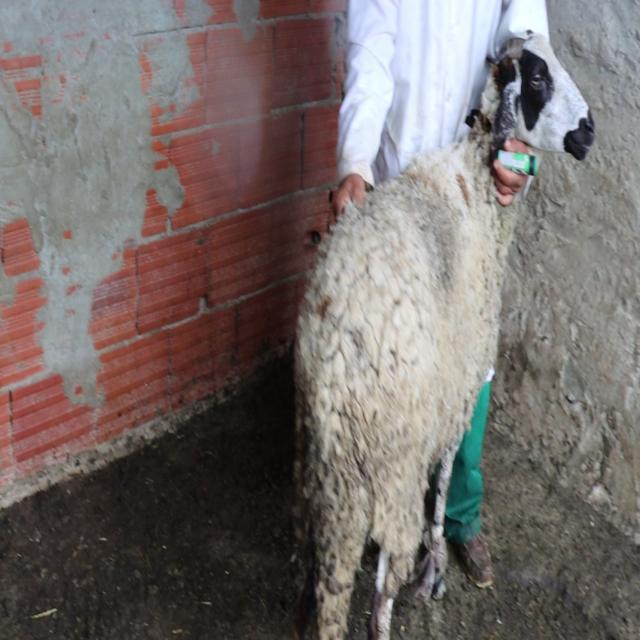Score_3: (294, 33, 594, 639)
